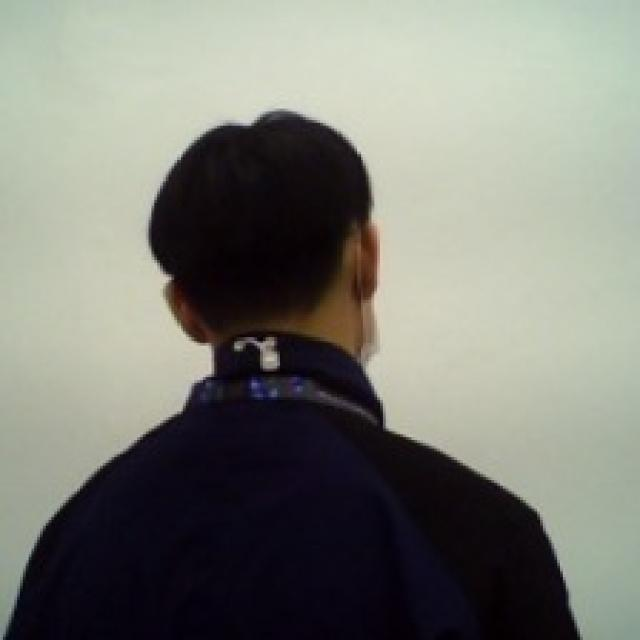no_gloves: (144, 102, 387, 345)
